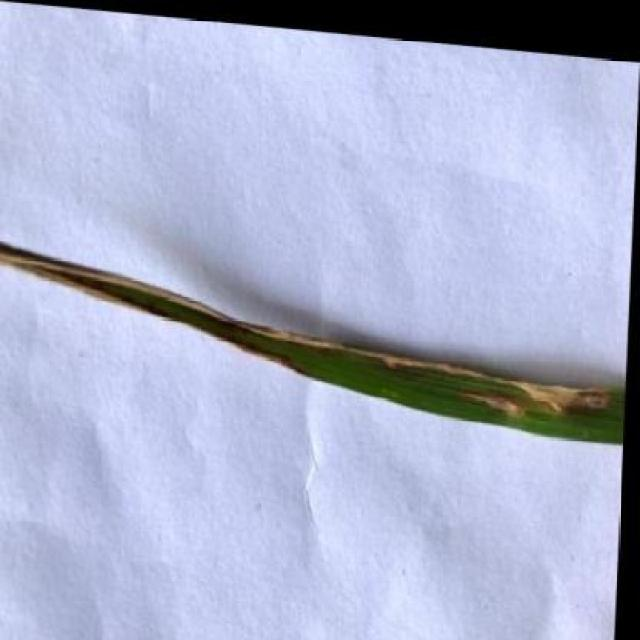Brown_Spot: (0, 232, 632, 439)
